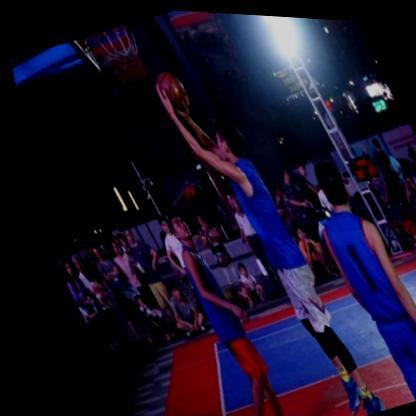basketball: (151, 66, 191, 111)
rim: (84, 20, 157, 90)
